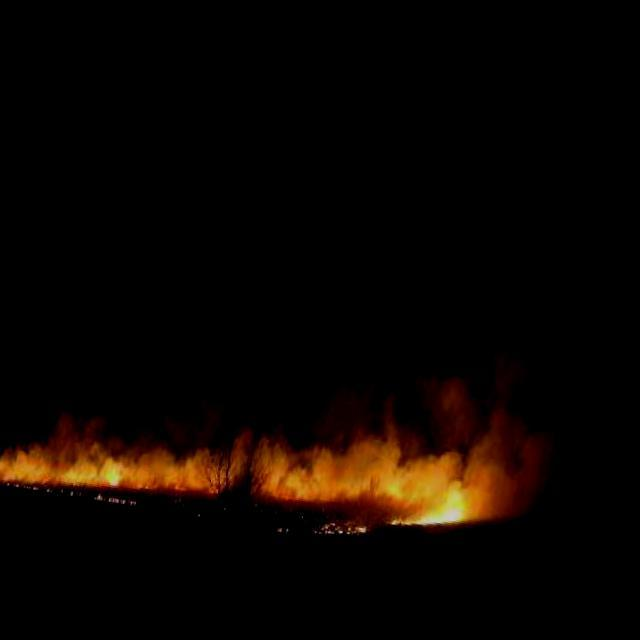Fire: (0, 362, 502, 538)
